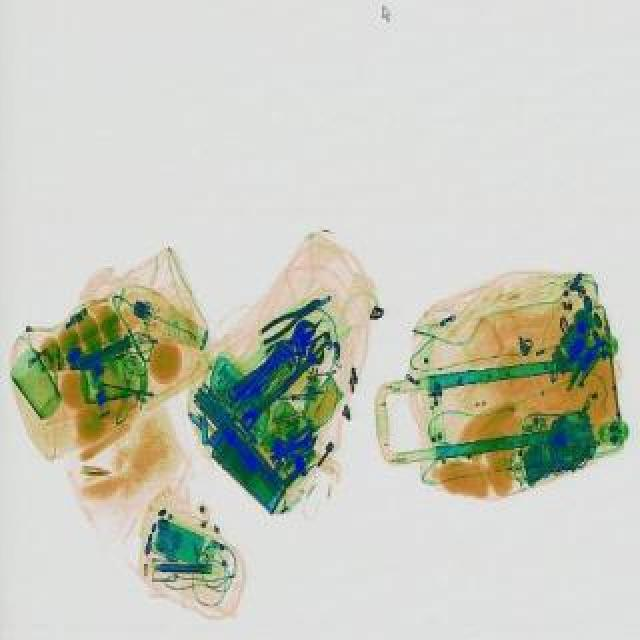scissors: (216, 316, 322, 406), (234, 340, 330, 432), (286, 420, 318, 446)
wrench: (254, 290, 326, 346)
